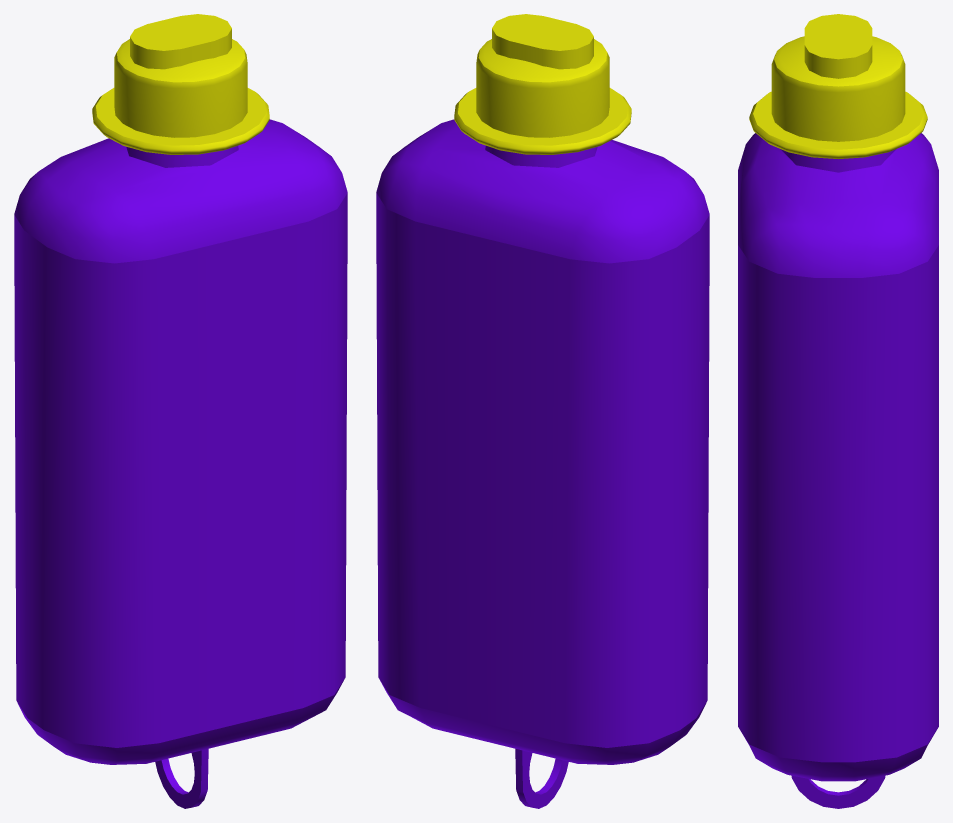
The model's file is Suero_v1.fbx.
3 views of the same model, side by side, from view 1: azimuth 30°, elevation 25°; view 2: azimuth 150°, elevation 25°; view 3: azimuth 270°, elevation 25° (orthographic).
Parts seen in each view (by area): view 1: pCube2, pCylinder1, pCube4, pCylinder2; view 2: pCube2, pCylinder1, pCube4, pCylinder2; view 3: pCube2, pCylinder1, pCube4, pCylinder2.
Boxes of the visible parts, x1,y1,x2,y2 form: pCube2: (14,119,347,764); pCylinder1: (92,39,269,154); pCube4: (130,14,231,69); pCylinder2: (155,748,208,808); pCube2: (376,119,709,764); pCylinder1: (454,39,631,154); pCube4: (492,14,593,69); pCylinder2: (515,748,568,808); pCube2: (738,133,938,781); pCylinder1: (749,36,927,158); pCube4: (804,14,872,78); pCylinder2: (791,775,885,808).
Bounding box in the file's own units: 7.5 × 19.07 × 4.5.
